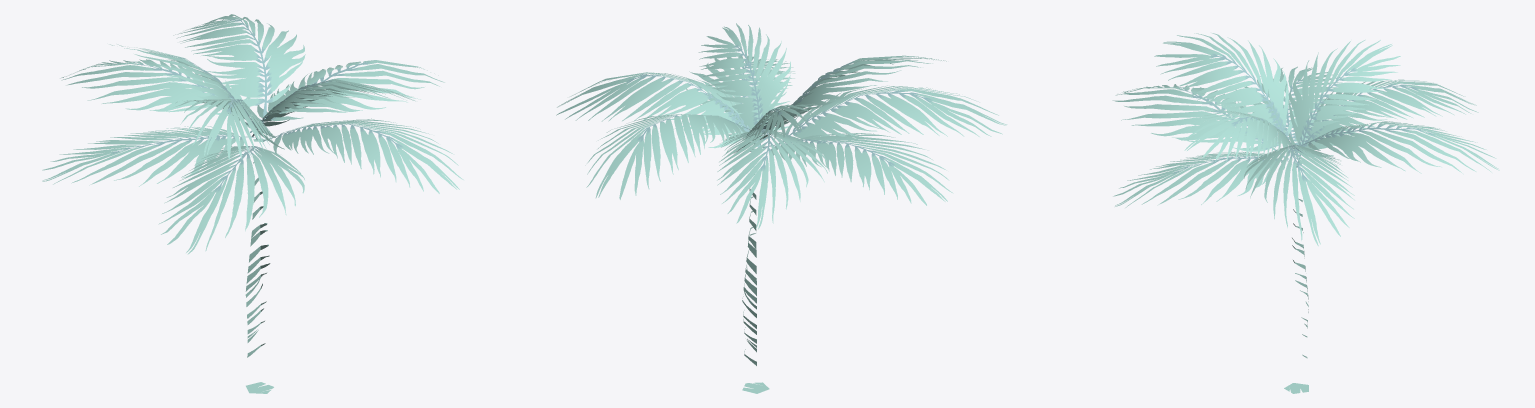
File: M.coconut_tree-v3-4.fbx
The picture shows the model from 3 angles, left to right: view 1: azimuth 30°, elevation 25°; view 2: azimuth 150°, elevation 25°; view 3: azimuth 270°, elevation 25°; orthographic projection. The views are drawn at different scales.
Parts seen in each view (by area): view 1: leaf2.024; view 2: leaf2.024; view 3: leaf2.024.
Boxes of the visible parts, <box> form: leaf2.024: <box>42,14,463,393</box>; leaf2.024: <box>556,23,1007,393</box>; leaf2.024: <box>1112,33,1499,393</box>.
Size of the model in its own units: 518 by 408 by 547.
